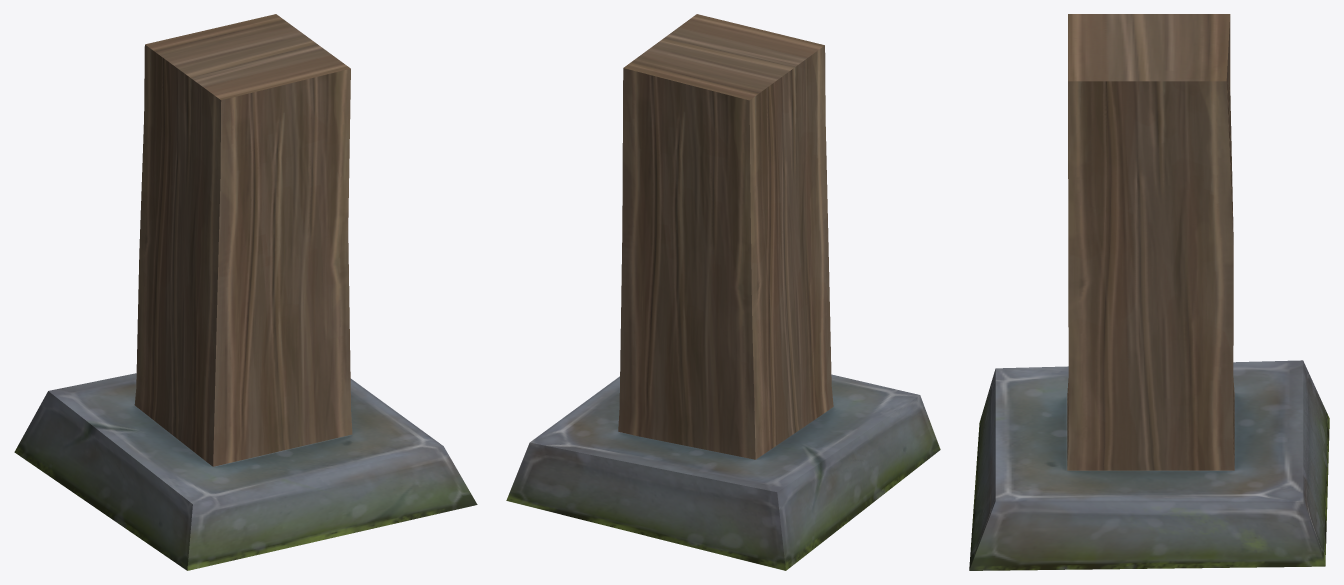
File: WoodenSupport_15x80_01_Mesh.fbx
The picture shows the model from 3 angles, left to right: view 1: azimuth 30°, elevation 25°; view 2: azimuth 150°, elevation 25°; view 3: azimuth 270°, elevation 25°; orthographic projection. The views are drawn at different scales.
Visible parts, largest first — view 1: WoodenSupport_15x80_01_LOD0; view 2: WoodenSupport_15x80_01_LOD0; view 3: WoodenSupport_15x80_01_LOD0.
Boxes of the visible parts, x1,y1,x2,y2 form: WoodenSupport_15x80_01_LOD0: [14, 14, 477, 570]; WoodenSupport_15x80_01_LOD0: [506, 14, 940, 570]; WoodenSupport_15x80_01_LOD0: [969, 14, 1329, 570].
Size of the model in its own units: 47.41 by 65.09 by 47.47.
